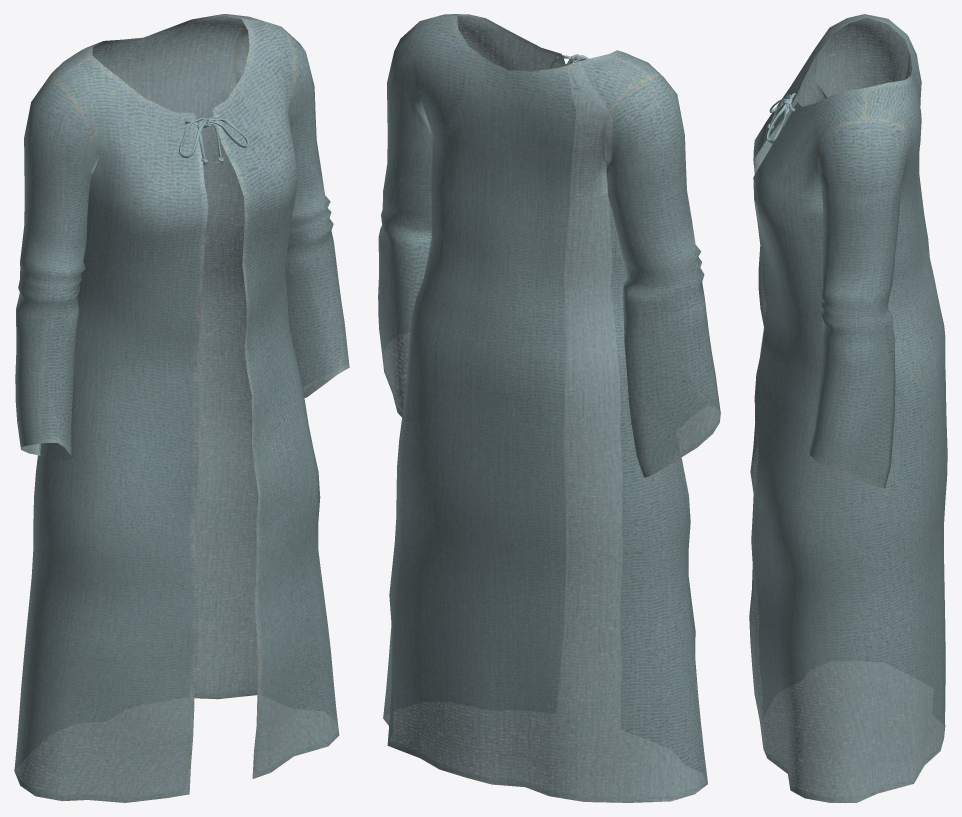
The model's file is mindfront-cardigan-long-open-front.glb.
3 renders of one model, left to right at view 1: azimuth 30°, elevation 25°; view 2: azimuth 150°, elevation 25°; view 3: azimuth 270°, elevation 25°, orthographic. The views are drawn at different scales.
Parts seen in each view (by area): view 1: Human.mindfront_cardigan_long_open_front; view 2: Human.mindfront_cardigan_long_open_front; view 3: Human.mindfront_cardigan_long_open_front.
Boxes of the visible parts, box(x1,y1,x2,y2) form: Human.mindfront_cardigan_long_open_front: box(14, 14, 349, 802); Human.mindfront_cardigan_long_open_front: box(378, 14, 720, 802); Human.mindfront_cardigan_long_open_front: box(749, 14, 947, 802).
Size of the model in its own units: 0.5179 by 1.09 by 0.2873.
1 material, 1 textured.
